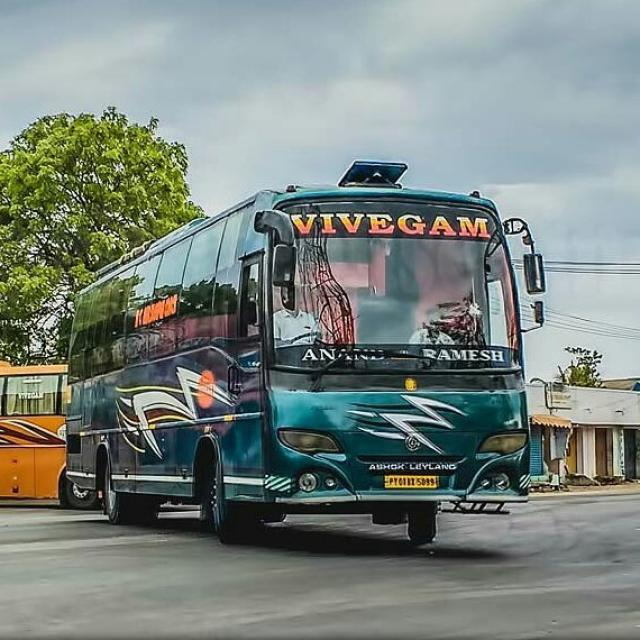Bus: (65, 160, 554, 544), (1, 357, 96, 510)
